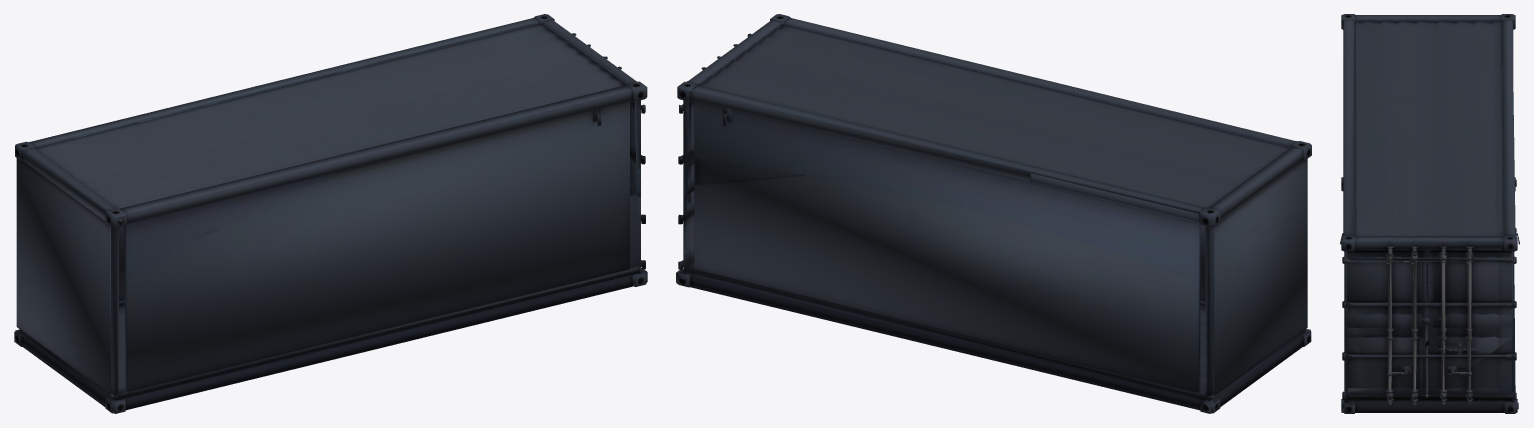
Rendered from selected.glb.
The picture shows the model from 3 angles, left to right: view 1: azimuth 30°, elevation 25°; view 2: azimuth 150°, elevation 25°; view 3: azimuth 270°, elevation 25°; orthographic projection. The views are drawn at different scales.
Parts seen in each view (by area): view 1: tripo_node_62544d29-cf22-48a8-8b2a-84b79ee4f937; view 2: tripo_node_62544d29-cf22-48a8-8b2a-84b79ee4f937; view 3: tripo_node_62544d29-cf22-48a8-8b2a-84b79ee4f937.
Part boxes in pixels (box(x1,y1,x2,y2)): tripo_node_62544d29-cf22-48a8-8b2a-84b79ee4f937: box(14, 14, 647, 413); tripo_node_62544d29-cf22-48a8-8b2a-84b79ee4f937: box(676, 14, 1311, 413); tripo_node_62544d29-cf22-48a8-8b2a-84b79ee4f937: box(1340, 14, 1519, 413).
Size of the model in its own units: 0.998 by 0.3496 by 0.3301.
Materials: 1 (1 with a texture image).
